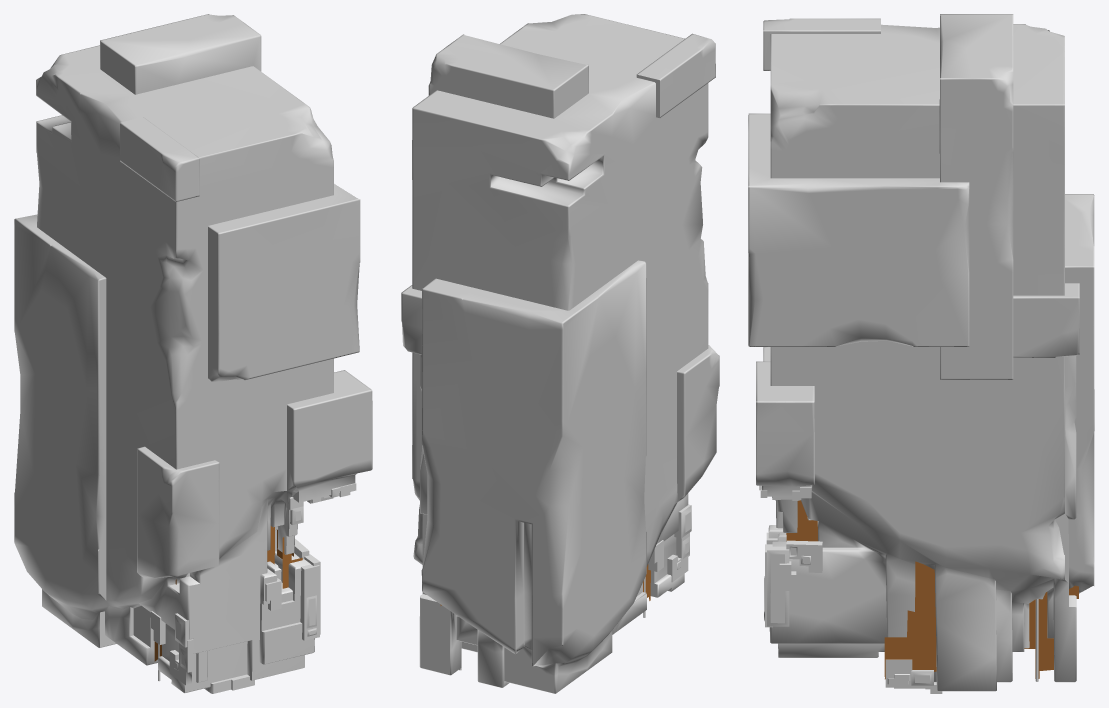
The model's file is VexArchitecture_15.fbx.
3 renders of one model, left to right at view 1: azimuth 30°, elevation 25°; view 2: azimuth 150°, elevation 25°; view 3: azimuth 270°, elevation 25°, orthographic. The views are drawn at different scales.
Parts seen in each view (by area): view 1: Mesh_0229.rip.001, Mesh_0249.rip.001, Mesh_0195.rip.001; view 2: Mesh_0229.rip.001, Mesh_0249.rip.001; view 3: Mesh_0229.rip.001, Mesh_0249.rip.001, Mesh_0195.rip.001.
Part boxes in pixels (left/top/right/bottom): Mesh_0229.rip.001: left=14, top=14, right=372, bottom=619; Mesh_0249.rip.001: left=42, top=473, right=356, bottom=693; Mesh_0195.rip.001: left=154, top=526, right=302, bottom=661; Mesh_0229.rip.001: left=401, top=14, right=719, bottom=668; Mesh_0249.rip.001: left=419, top=354, right=691, bottom=693; Mesh_0229.rip.001: left=748, top=14, right=1094, bottom=603; Mesh_0249.rip.001: left=759, top=355, right=1076, bottom=693; Mesh_0195.rip.001: left=786, top=500, right=1078, bottom=679.
Bounding box in the file's own units: 69.08 × 199 × 99.99.
